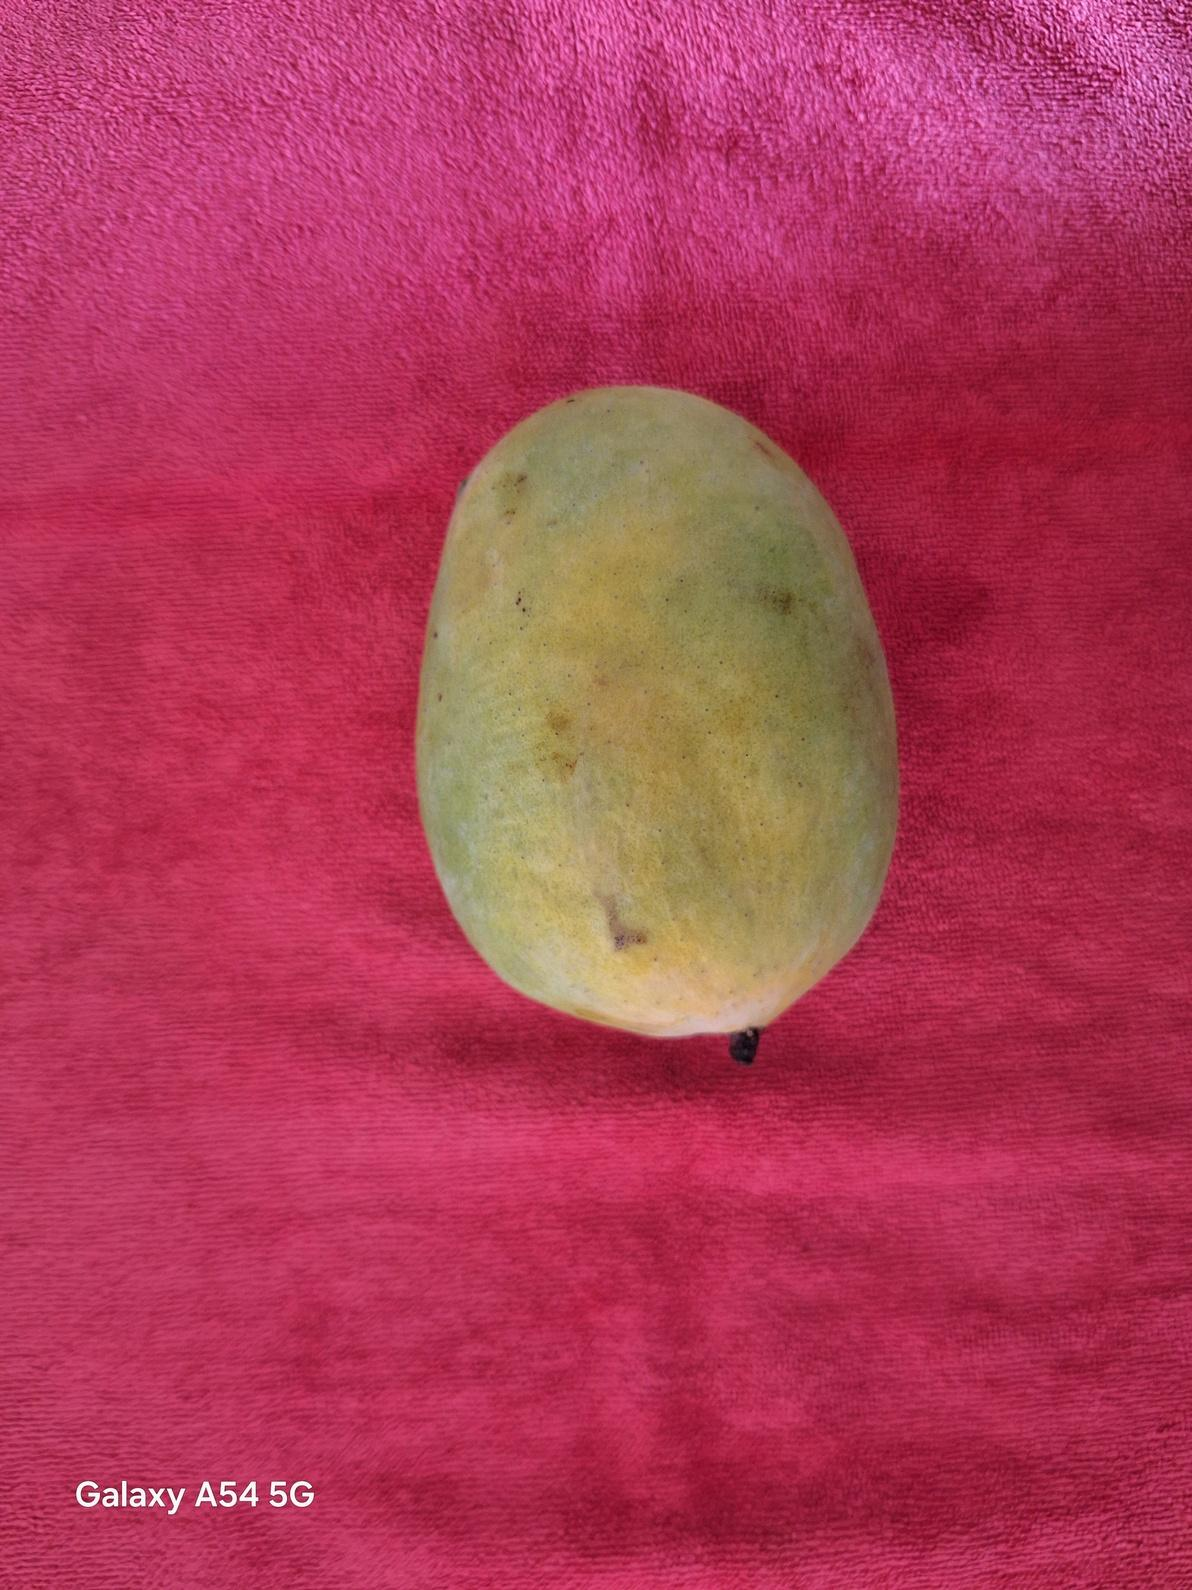mango: (412, 381, 902, 1064)
